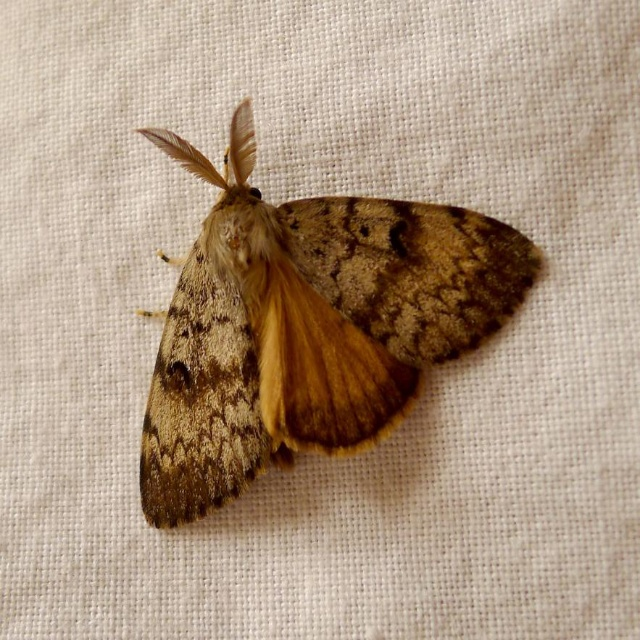Moths and butterflies: (132, 96, 547, 527)
